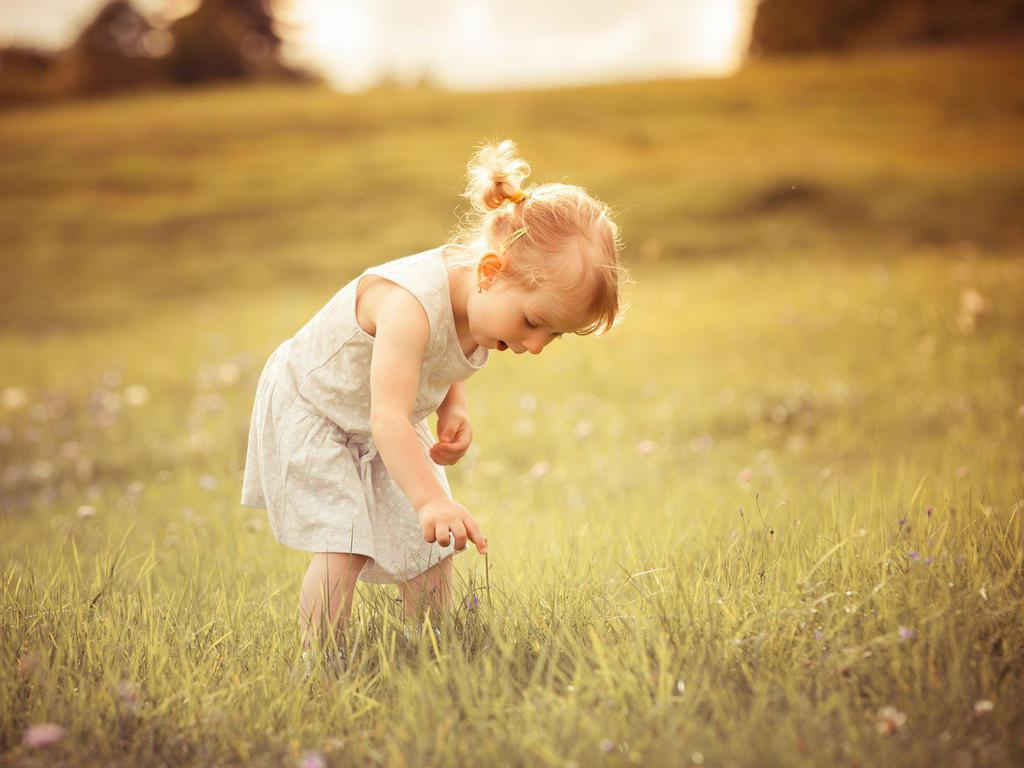child: (190, 144, 637, 658)
